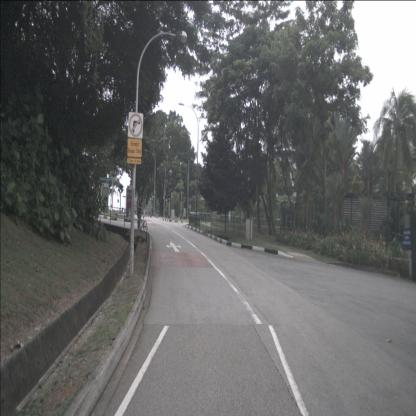human-pedestrian-adult: (137, 202, 143, 230), (137, 203, 142, 231)
vehicle-bicycle: (137, 212, 147, 232)
